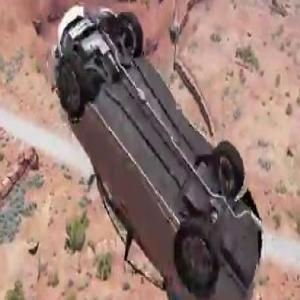serious: (54, 0, 264, 300)
